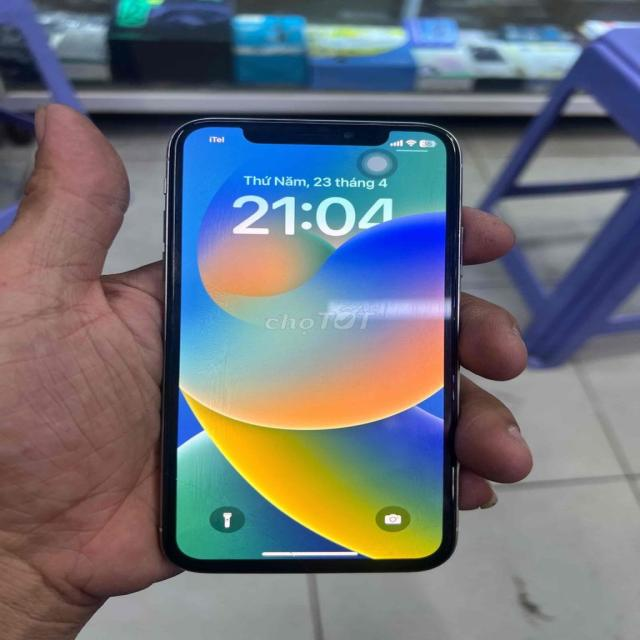gen_x_xs: (162, 118, 461, 572)
physical_damage: (173, 474, 312, 560)
